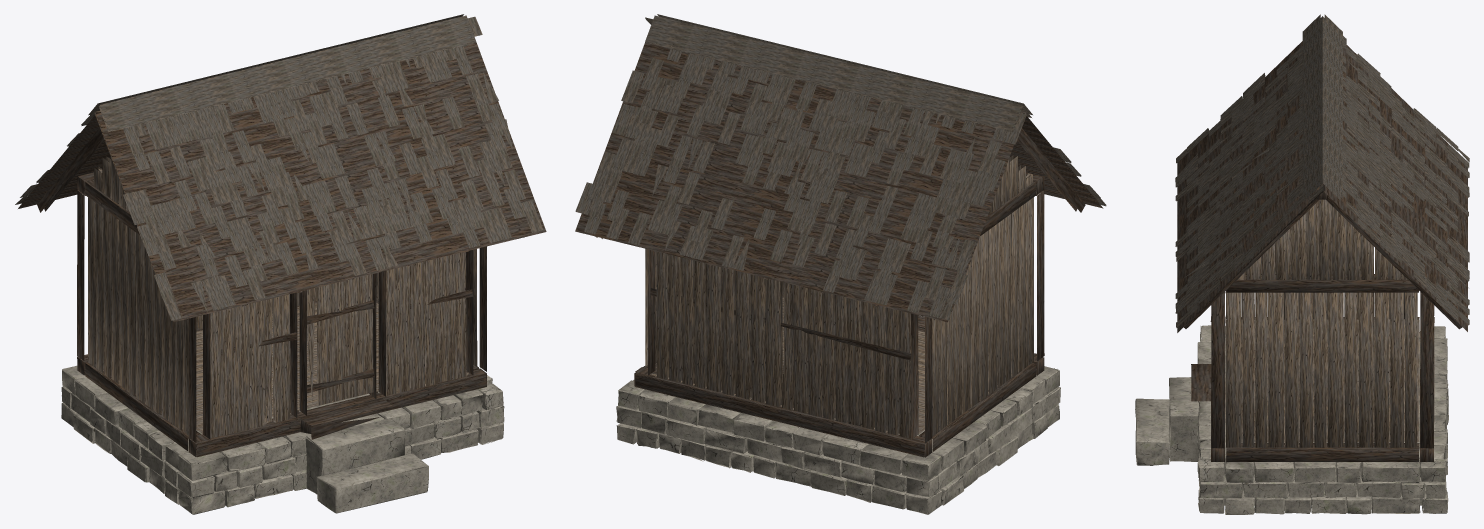
File: granero.glb
The picture shows the model from 3 angles, left to right: view 1: azimuth 30°, elevation 25°; view 2: azimuth 150°, elevation 25°; view 3: azimuth 270°, elevation 25°; orthographic projection. The views are drawn at different scales.
Visible parts, largest first — view 1: Object_4, Object_8, Object_6, Object_10; view 2: Object_8, Object_4, Object_6, Object_10; view 3: Object_6, Object_8, Object_4, Object_10, Object_12.
Part boxes in pixels (x1,y1,x2,y2): Object_4: (18, 42, 546, 457); Object_8: (15, 14, 543, 320); Object_6: (88, 156, 477, 438); Object_10: (61, 365, 504, 514); Object_8: (575, 14, 1106, 320); Object_4: (575, 42, 1103, 457); Object_6: (645, 155, 1033, 438); Object_10: (616, 366, 1060, 514); Object_6: (1225, 199, 1419, 447); Object_8: (1175, 14, 1469, 327); Object_4: (1177, 41, 1467, 461); Object_10: (1135, 325, 1448, 514); Object_12: (1223, 338, 1424, 505).
Size of the model in its own units: 7.03 by 6.5 by 5.68.
Materials: 4 (4 with a texture image).
